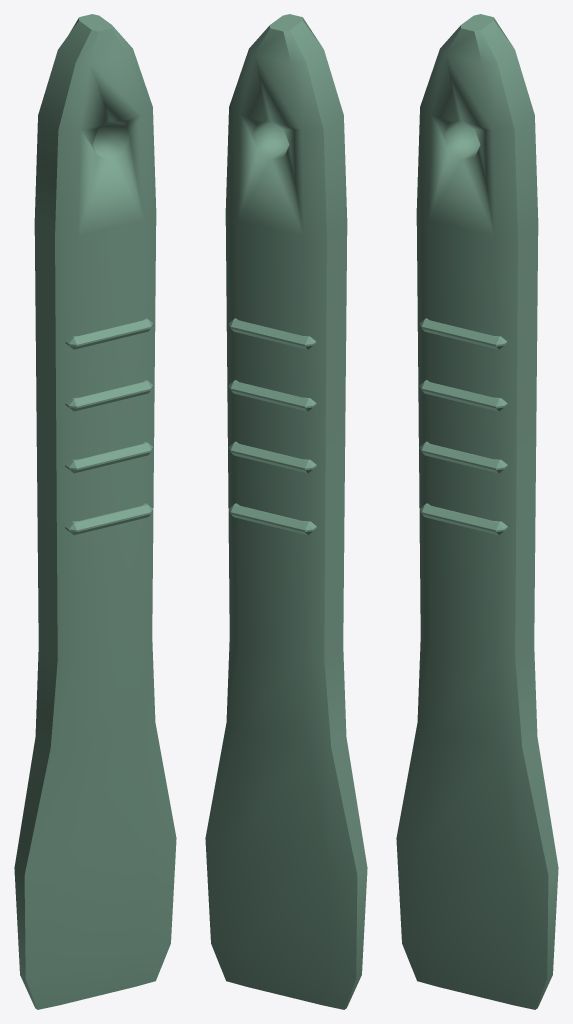
File: leva.glb
The picture shows the model from 3 angles, left to right: view 1: azimuth 30°, elevation 25°; view 2: azimuth 150°, elevation 25°; view 3: azimuth 330°, elevation 25°; orthographic projection.
Visible parts, largest first — view 1: corpo_leva; view 2: corpo_leva; view 3: corpo_leva.
Boxes of the visible parts, bbox=[...] form: corpo_leva: bbox=[14, 14, 176, 1009]; corpo_leva: bbox=[205, 14, 367, 1009]; corpo_leva: bbox=[396, 14, 558, 1009].
Bounding box in the file's own units: 0.018 × 0.11 × 0.0076.
